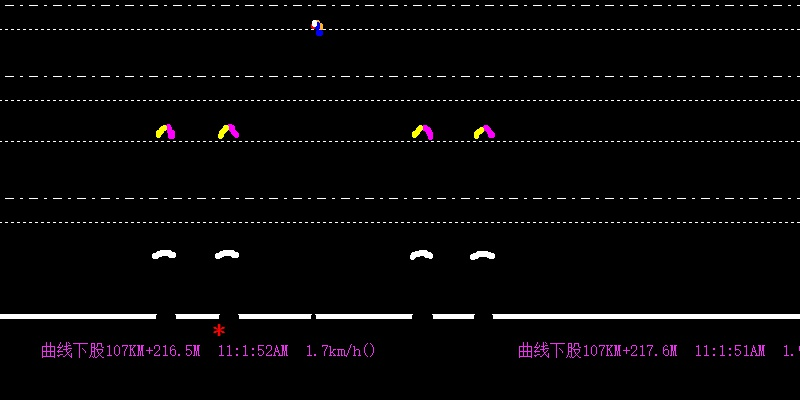L: (144, 113, 512, 272)
face_2: (309, 17, 326, 39)
star: (211, 323, 226, 336)
